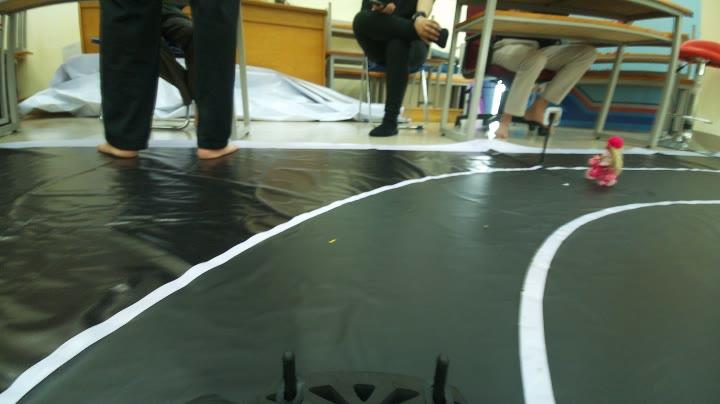pedestrian: (590, 123, 624, 196)
